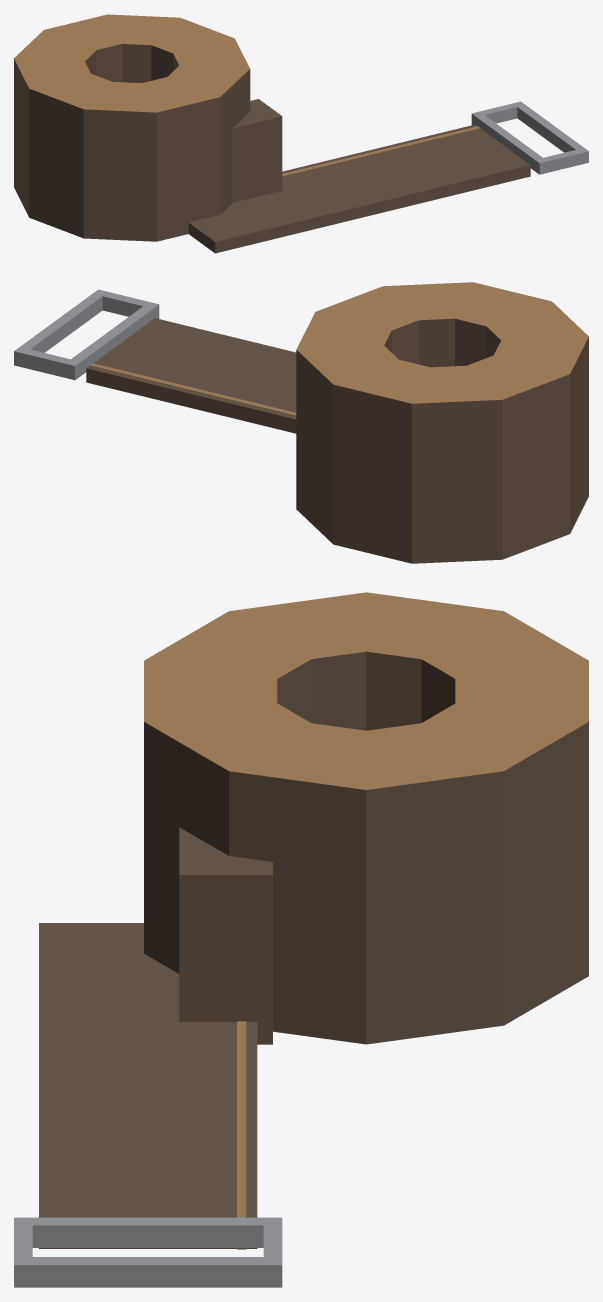
The model's file is prop-breeching-strap-roll.fbx.
The picture shows the model from 3 angles, top to bottom: view 1: azimuth 30°, elevation 25°; view 2: azimuth 150°, elevation 25°; view 3: azimuth 270°, elevation 25°; orthographic projection. The views are drawn at different scales.
Parts seen in each view (by area): view 1: prop-breeching-strap-roll; view 2: prop-breeching-strap-roll; view 3: prop-breeching-strap-roll.
Boxes of the visible parts, x1,y1,x2,y2 form: prop-breeching-strap-roll: (14, 14, 588, 253); prop-breeching-strap-roll: (14, 282, 588, 563); prop-breeching-strap-roll: (14, 592, 588, 1287).
Bounding box in the file's own units: 34.3 × 9.03 × 18.43.
